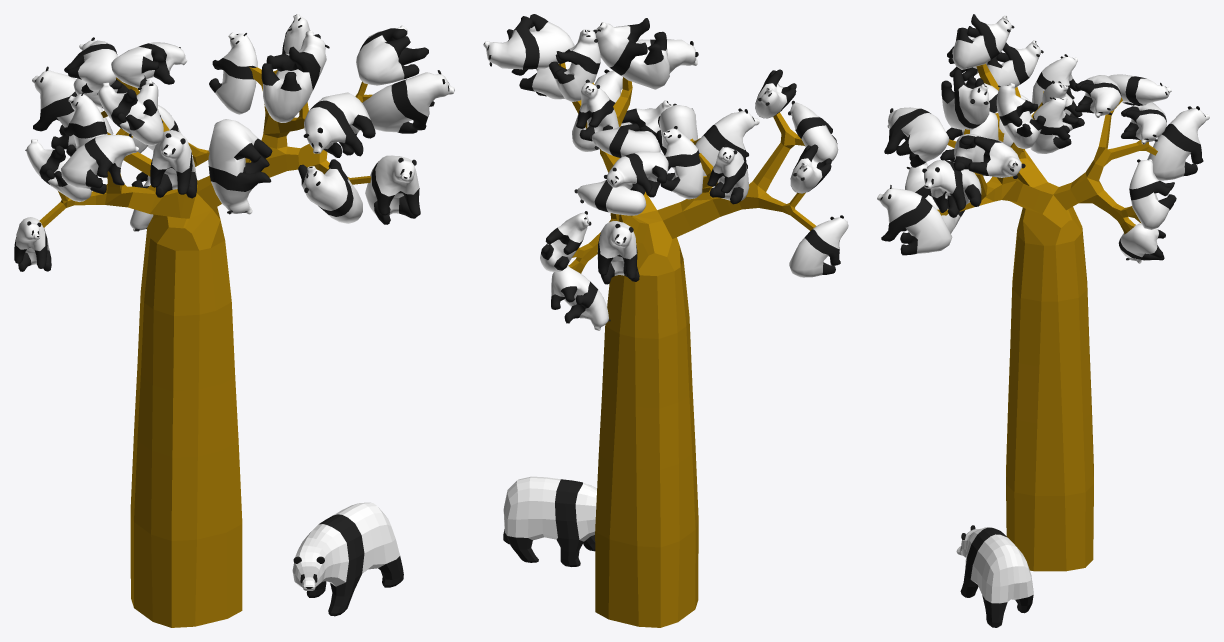
File: baobaoBaobabNamu.glb
3 renders of one model, left to right at view 1: azimuth 30°, elevation 25°; view 2: azimuth 150°, elevation 25°; view 3: azimuth 270°, elevation 25°, orthographic. The views are drawn at different scales.
Visible parts, largest first — view 1: baobaoBabNamu, Circle.022; view 2: baobaoBabNamu, Circle.022; view 3: baobaoBabNamu, Circle.022.
Part boxes in pixels (x1=…): baobaoBabNamu: x1=14, y1=14, x2=454, y2=627; Circle.022: x1=292, y1=502, x2=403, y2=616; baobaoBabNamu: x1=483, y1=14, x2=848, y2=627; Circle.022: x1=503, y1=476, x2=596, y2=566; baobaoBabNamu: x1=877, y1=14, x2=1209, y2=571; Circle.022: x1=956, y1=525, x2=1033, y2=627.
Size of the model in its own units: 7.05 by 10.14 by 6.03.
